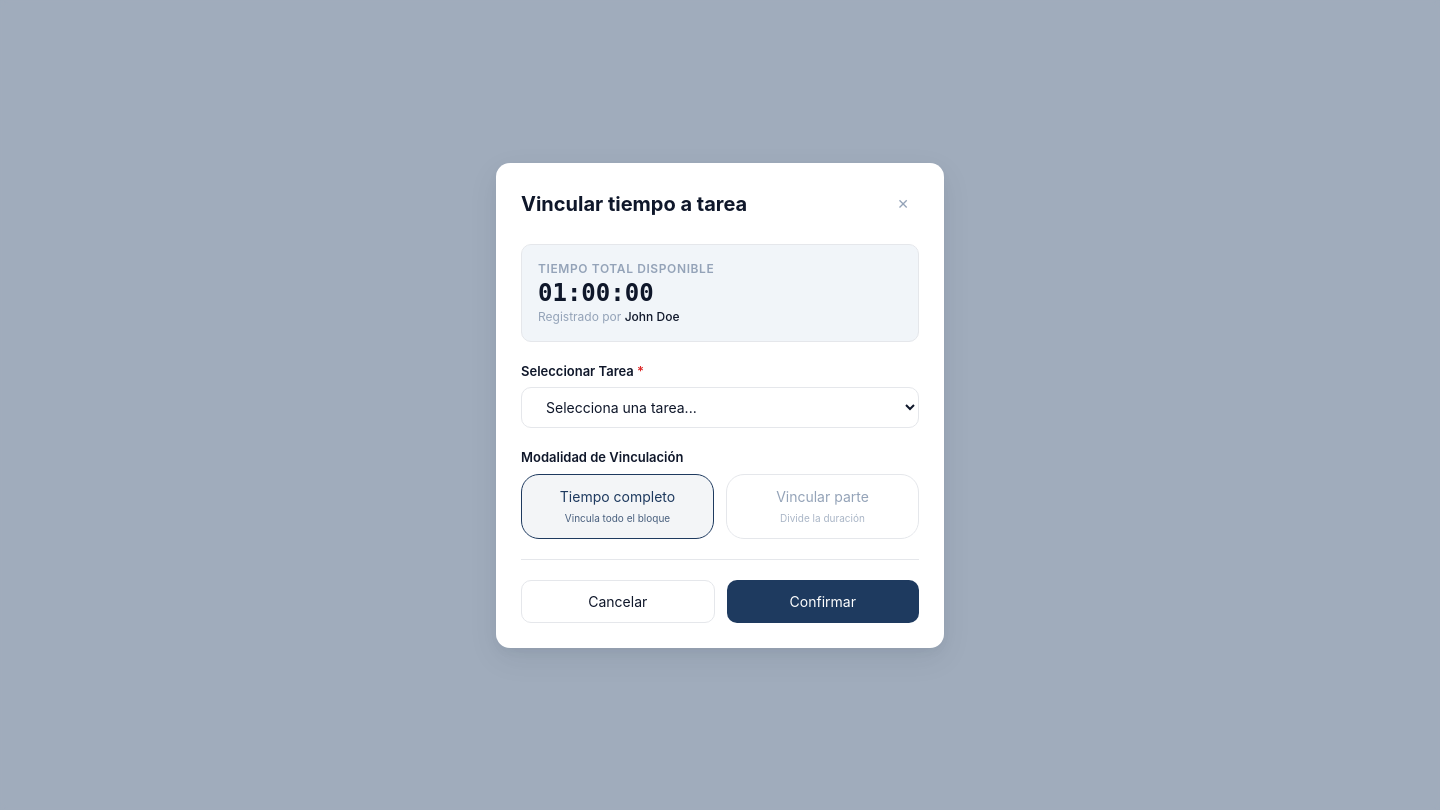
LinkTimeModal Component › User Interactions & Validations › should throw error when partial duration is 0
Click the button "Vincular parte Divide la duración": coordinates (822, 506) [726, 474, 919, 538]
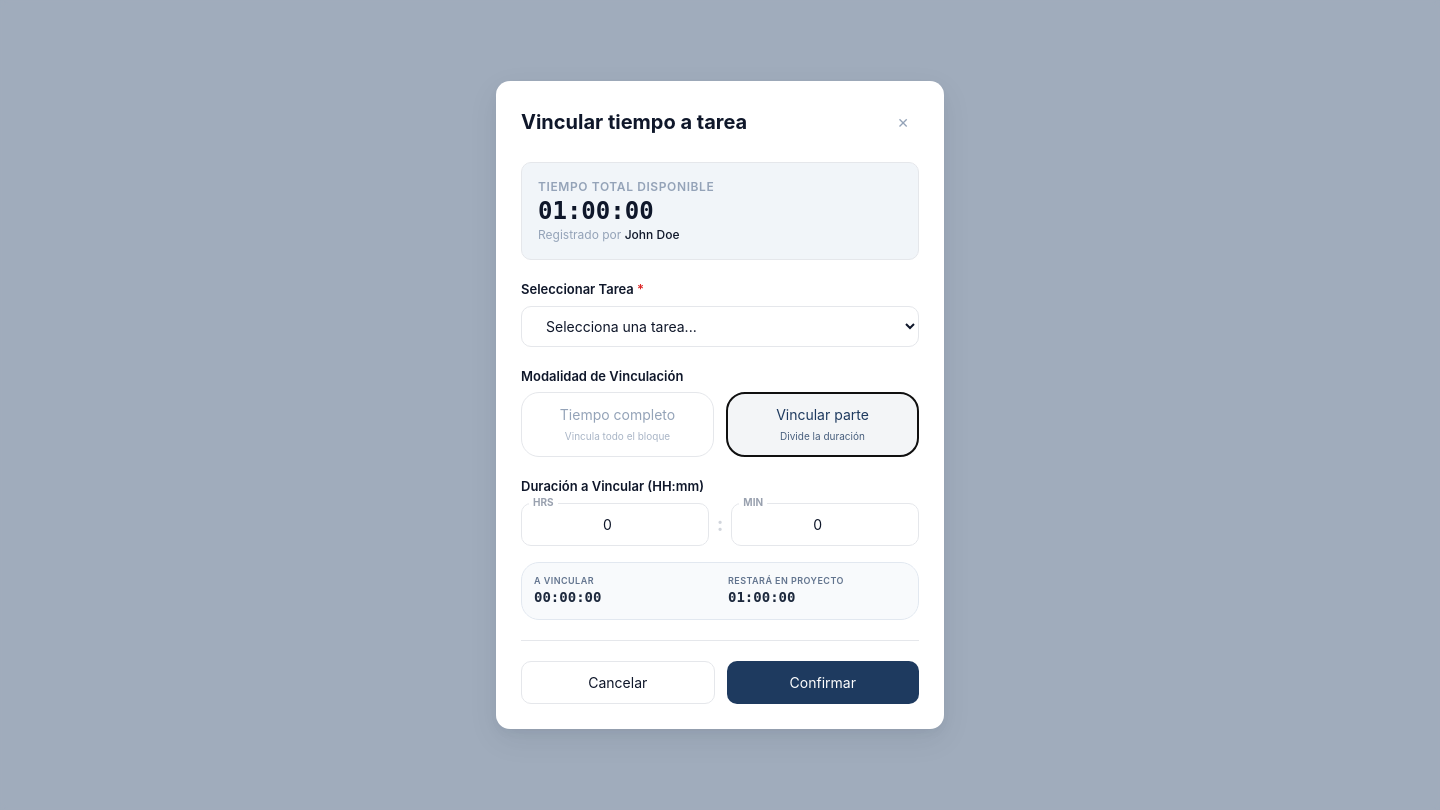
Select "Tarea: Design UI (Por hacer)" in the dropdown labelled "Seleccionar Tarea *": coordinates (720, 326) [521, 306, 919, 347]
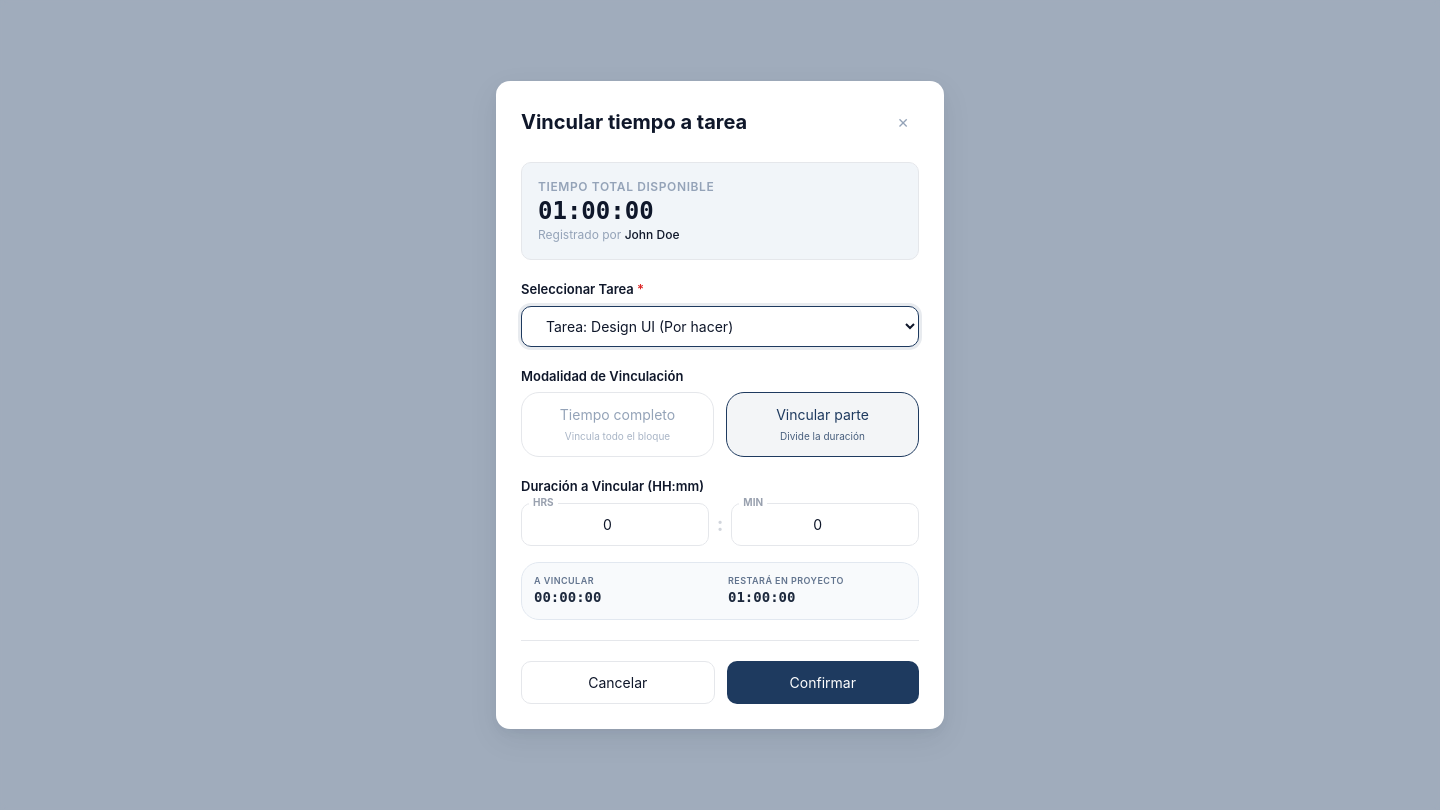
Click the button "Confirmar": coordinates (823, 682) [727, 661, 919, 704]
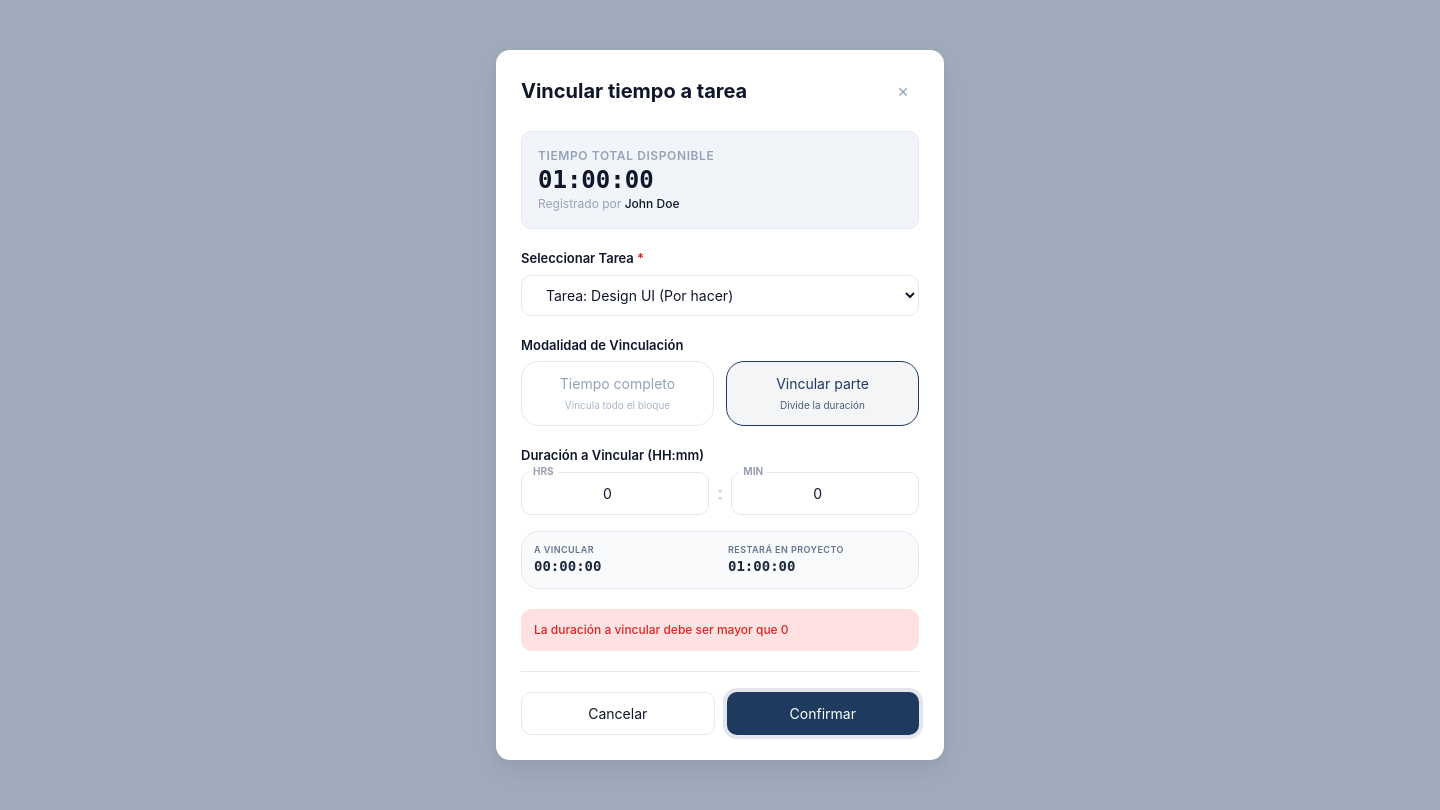
Now the text "La duración a vincular debe ser mayor que 0" is shown, box [521, 609, 919, 651]
